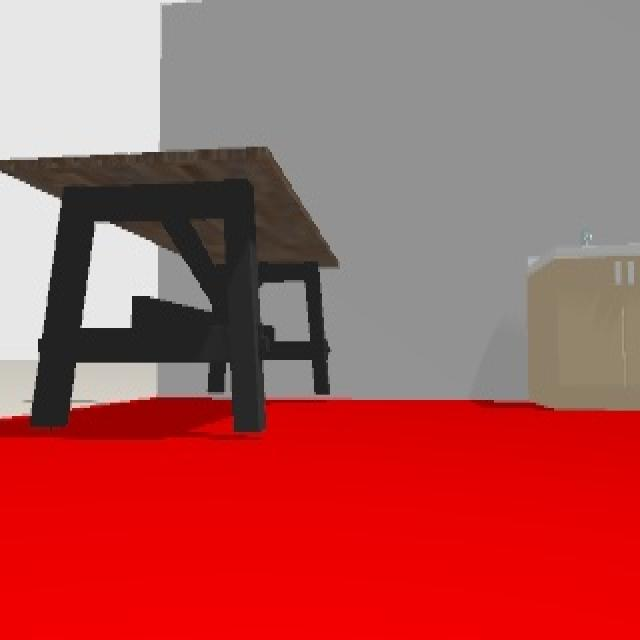dining: (0, 151, 342, 436)
